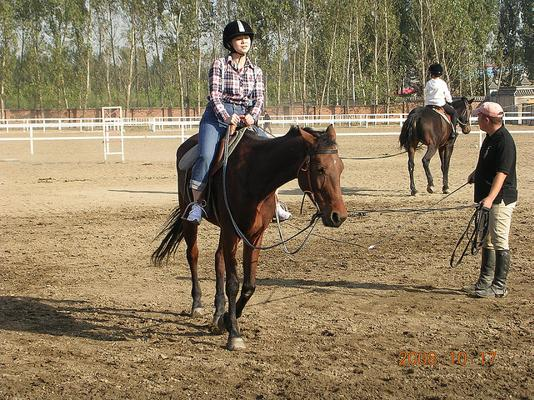person: (188, 21, 291, 226)
